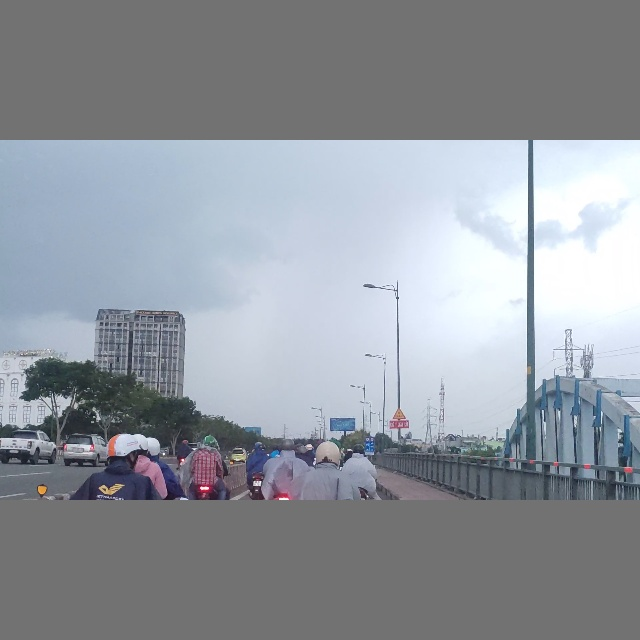W.245a: (391, 407, 407, 420)
